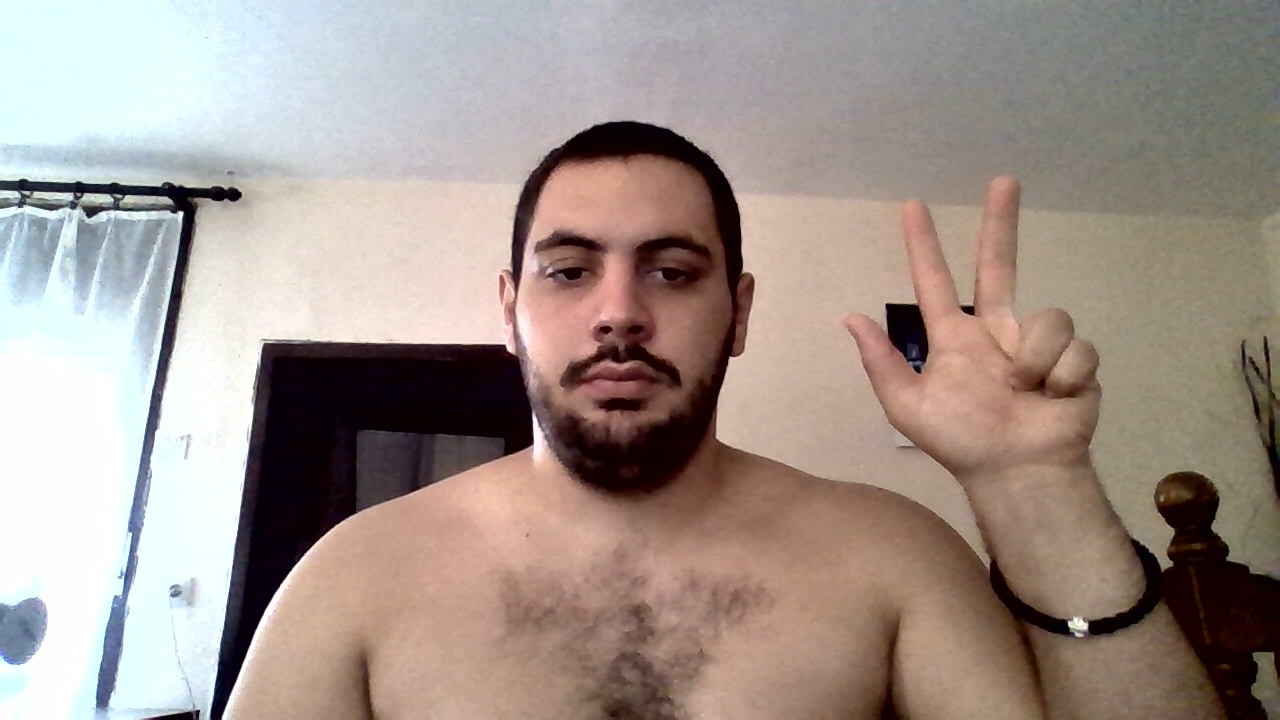serbia: (845, 173, 1106, 467)
